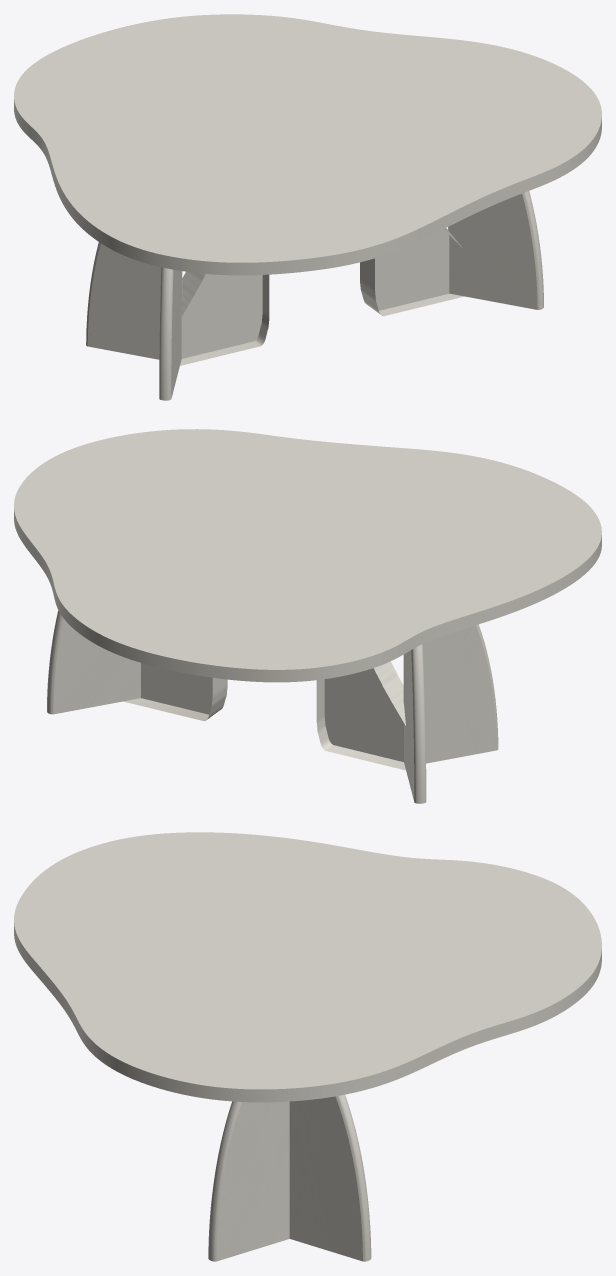
The model's file is pale_topone_standard_plane.glb.
The picture shows the model from 3 angles, top to bottom: view 1: azimuth 30°, elevation 25°; view 2: azimuth 150°, elevation 25°; view 3: azimuth 270°, elevation 25°; orthographic projection. The views are drawn at different scales.
Parts seen in each view (by area): view 1: standard_topone, plane_singleright2, plane_single1, plane_singleleft1, plane_single2, plane_singleright1; view 2: standard_topone, plane_singleright1, plane_single1, plane_singleleft2, plane_single2, plane_singleleft1; view 3: standard_topone, plane_singleleft2, plane_singleright2.
Part boxes in pixels (left/top/right/bottom): standard_topone: left=14, top=14, right=601, bottom=275; plane_singleright2: left=448, top=191, right=543, bottom=309; plane_single1: left=180, top=271, right=269, bottom=365; plane_singleleft1: left=86, top=242, right=182, bottom=359; plane_single2: left=360, top=228, right=464, bottom=316; plane_singleright1: left=159, top=267, right=181, bottom=400; standard_topone: left=14, top=429, right=601, bottom=682; plane_singleright1: left=403, top=624, right=498, bottom=763; plane_single1: left=316, top=661, right=405, bottom=770; plane_singleleft2: left=47, top=610, right=140, bottom=714; plane_single2: left=123, top=663, right=227, bottom=720; plane_singleleft1: left=404, top=644, right=426, bottom=803; standard_topone: left=14, top=832, right=601, bottom=1102; plane_singleleft2: left=289, top=1094, right=371, bottom=1261; plane_singleright2: left=208, top=1101, right=289, bottom=1261.
Size of the model in its own units: 6.83 by 2.49 by 6.6.
1 material, 1 textured.
